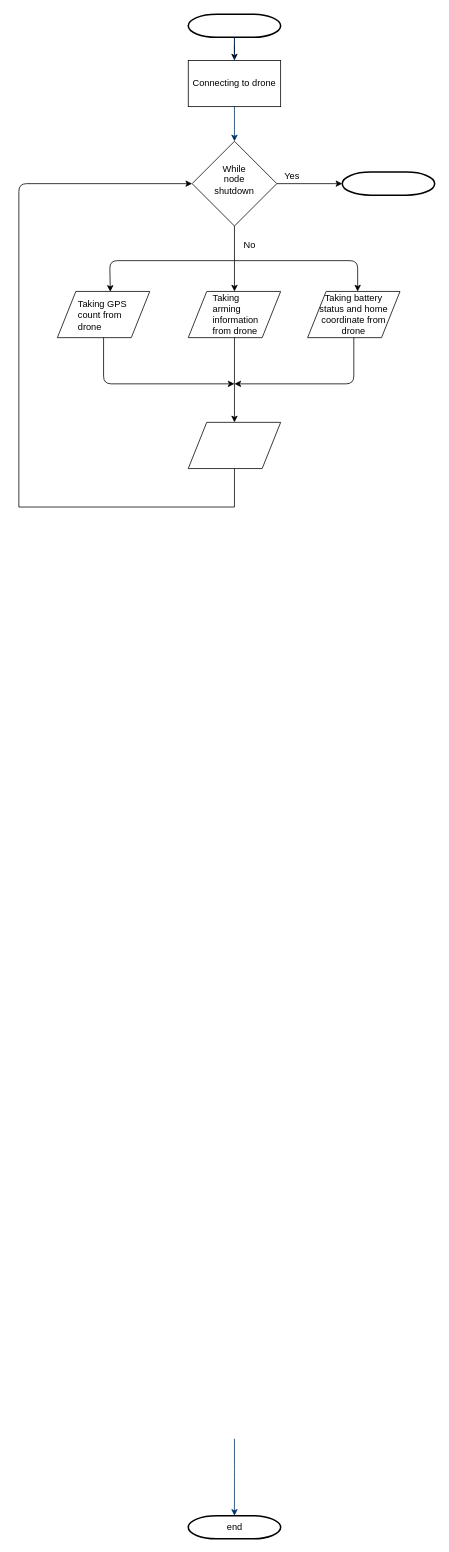
The diagram is 449 pixels wide and 1552 high, and some of its shapes have lost their labels. The shapes that lost their labels are listed below. From the top down, each one's centre as x and y in pixels, then its label:
At (234,25): "start".
At (388,183): "Exit".
At (234,445): "Publish data over the network".
